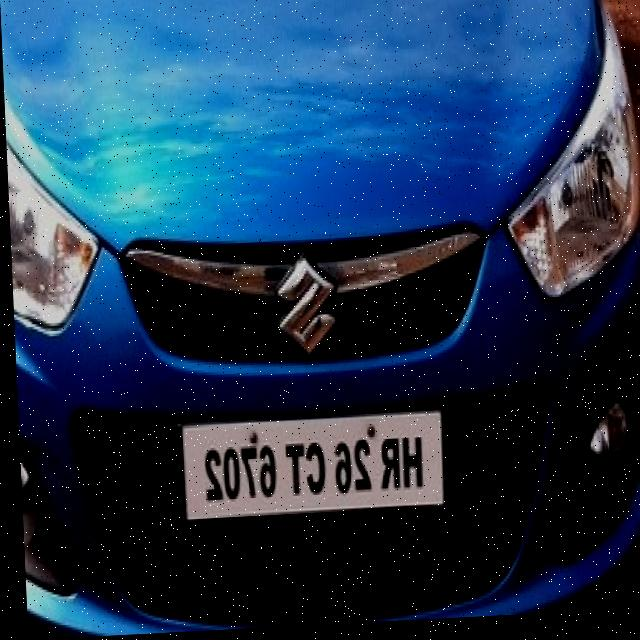plate: (175, 416, 439, 521)
